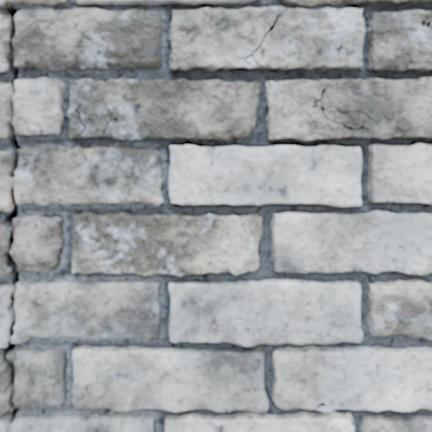brick: (72, 346, 431, 431), (169, 279, 361, 345), (169, 7, 364, 70), (72, 212, 261, 275), (68, 78, 258, 139), (169, 145, 360, 205), (266, 78, 431, 140), (272, 211, 431, 273), (367, 11, 431, 71), (366, 280, 431, 338), (368, 144, 431, 203), (361, 415, 431, 431), (282, 0, 431, 6), (77, 0, 252, 4), (248, 58, 259, 67)
broken_brick: (0, 350, 154, 431), (14, 7, 162, 71), (12, 279, 160, 343), (15, 144, 164, 206), (8, 345, 67, 409), (11, 214, 64, 272), (14, 76, 64, 135), (0, 283, 11, 347), (0, 150, 11, 212), (0, 81, 9, 140), (0, 13, 9, 72), (0, 0, 69, 7), (0, 226, 9, 278)
crack: (0, 2, 23, 429), (233, 12, 282, 67), (101, 98, 127, 137), (73, 95, 87, 138), (313, 401, 326, 410), (408, 60, 431, 64)
